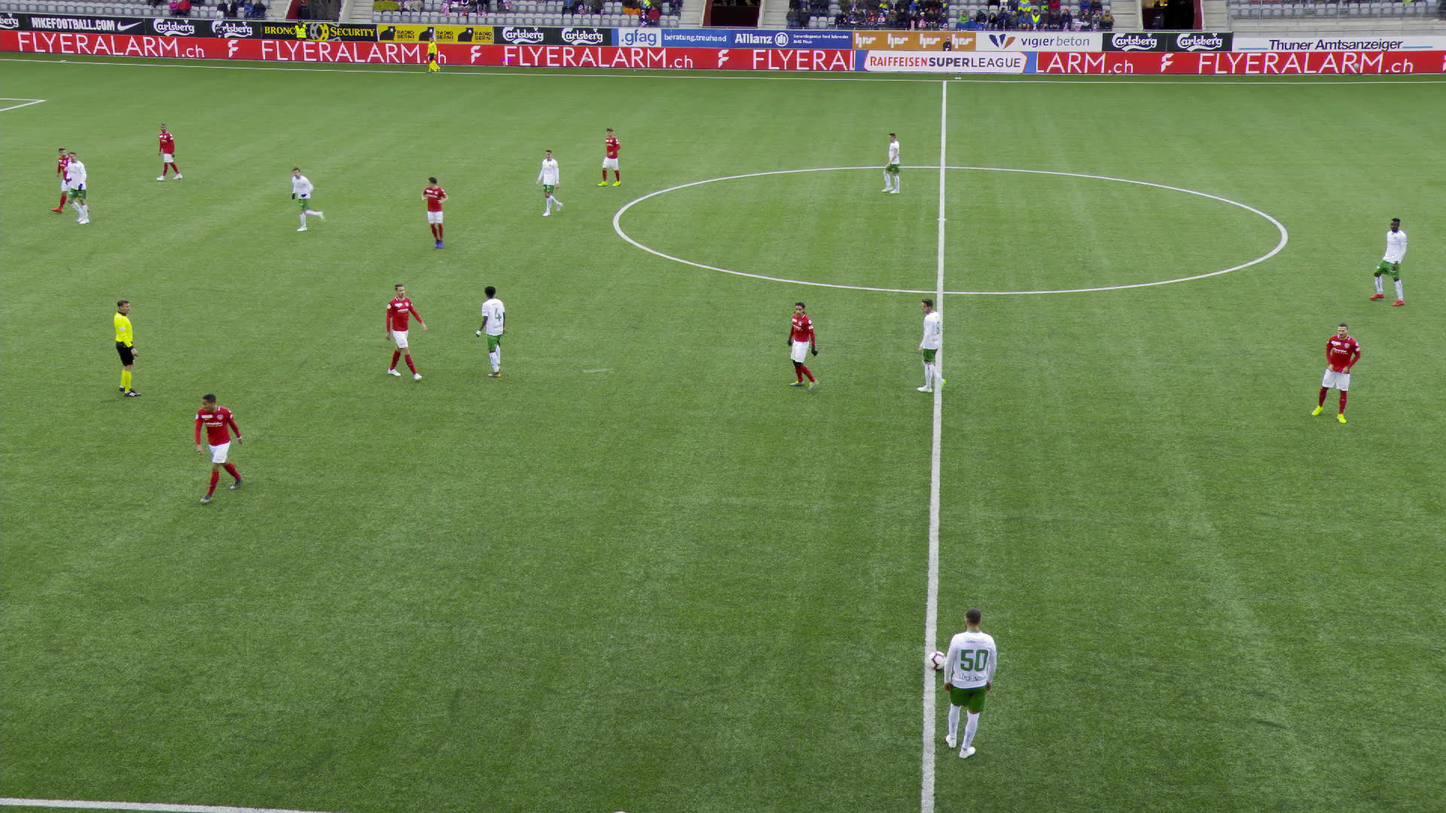ball: (927, 649, 944, 669)
player: (938, 605, 996, 763), (193, 390, 248, 503), (1307, 321, 1361, 426), (385, 282, 429, 384), (782, 301, 823, 394), (1368, 216, 1408, 307), (476, 284, 513, 379), (909, 298, 944, 397), (421, 178, 459, 252), (53, 146, 90, 215), (291, 163, 327, 231), (65, 151, 96, 225), (534, 147, 565, 218), (879, 132, 905, 196), (599, 126, 625, 188), (156, 122, 182, 183)
referee: (111, 297, 148, 399), (423, 35, 441, 74)
